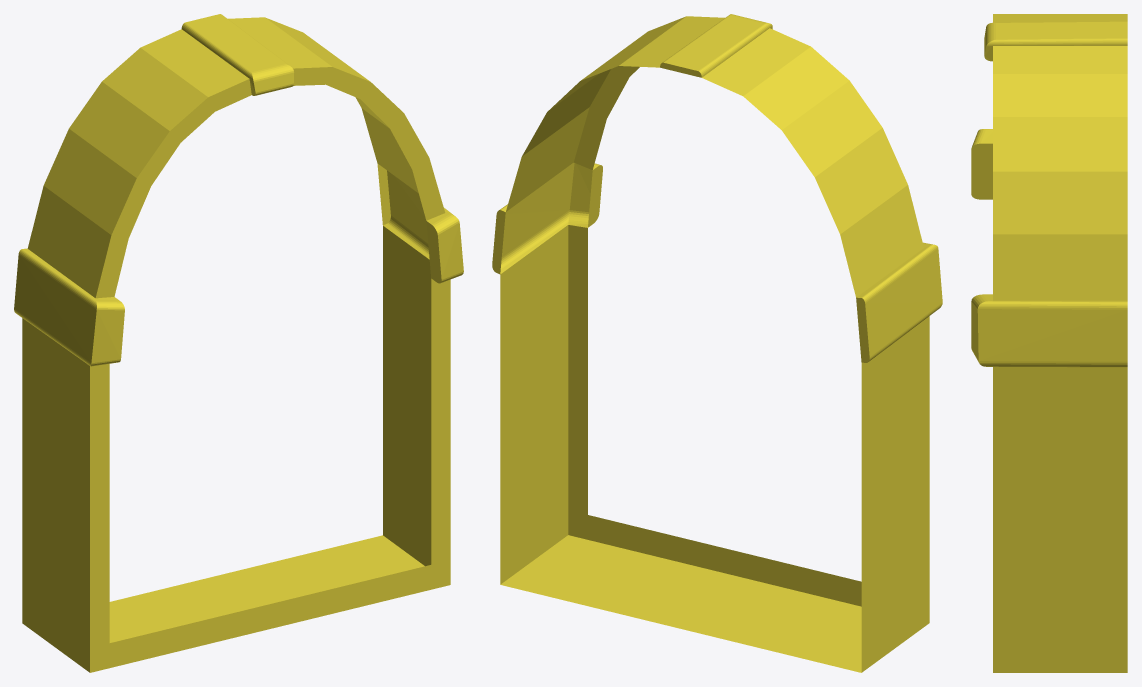
Rendered from JanelaSemGrade.fbx.
3 renders of one model, left to right at view 1: azimuth 30°, elevation 25°; view 2: azimuth 150°, elevation 25°; view 3: azimuth 270°, elevation 25°, orthographic.
Visible parts, largest first — view 1: JanelaSemGrade; view 2: JanelaSemGrade; view 3: JanelaSemGrade.
Part boxes in pixels (bbox=[...]): JanelaSemGrade: bbox=[14, 14, 463, 672]; JanelaSemGrade: bbox=[492, 14, 942, 672]; JanelaSemGrade: bbox=[971, 14, 1127, 672].
Size of the model in its own units: 95.53 by 136 by 34.61.
